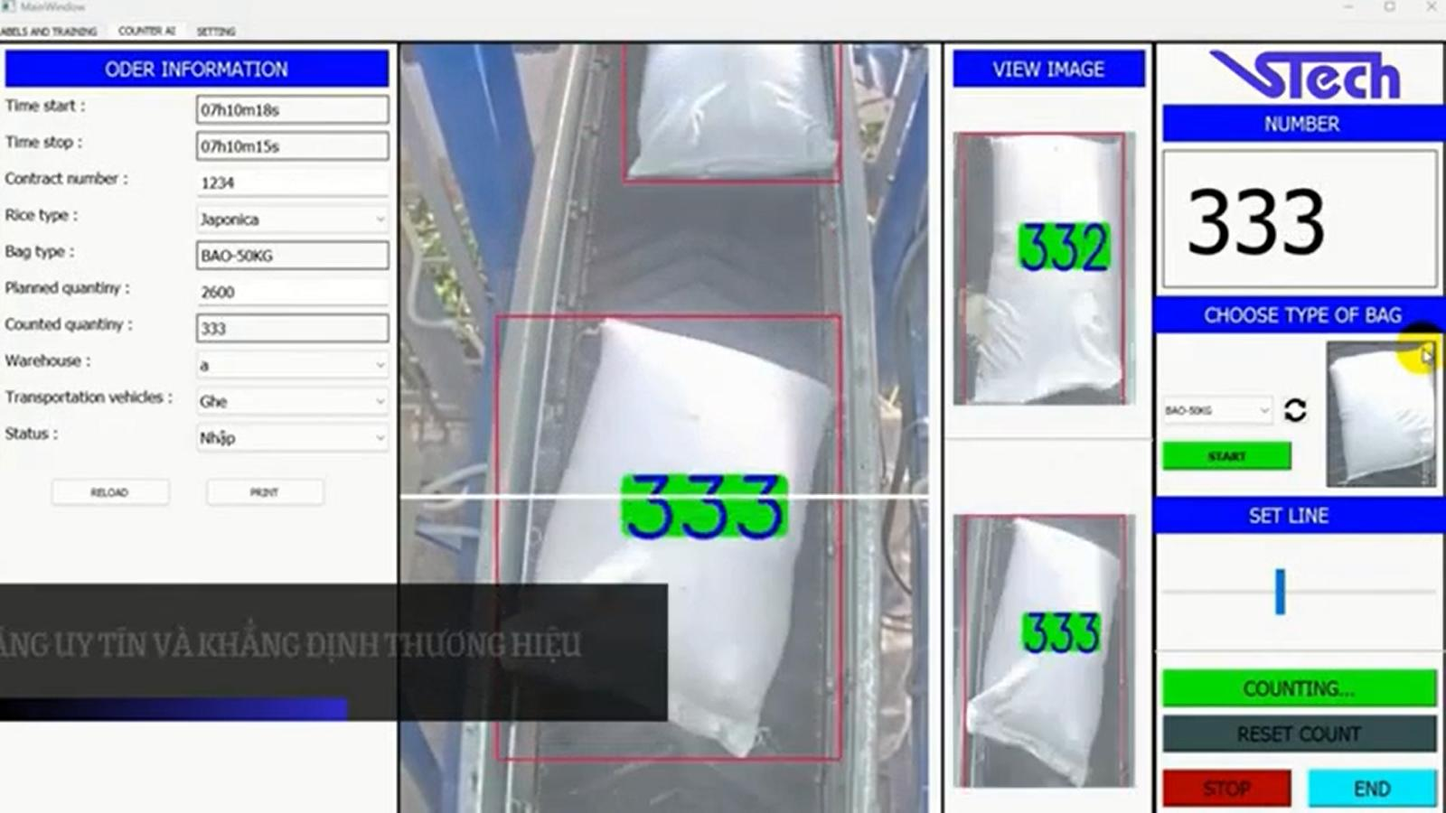rice-bag: (535, 321, 834, 756), (966, 135, 1122, 404), (967, 520, 1117, 784), (629, 43, 836, 177)
